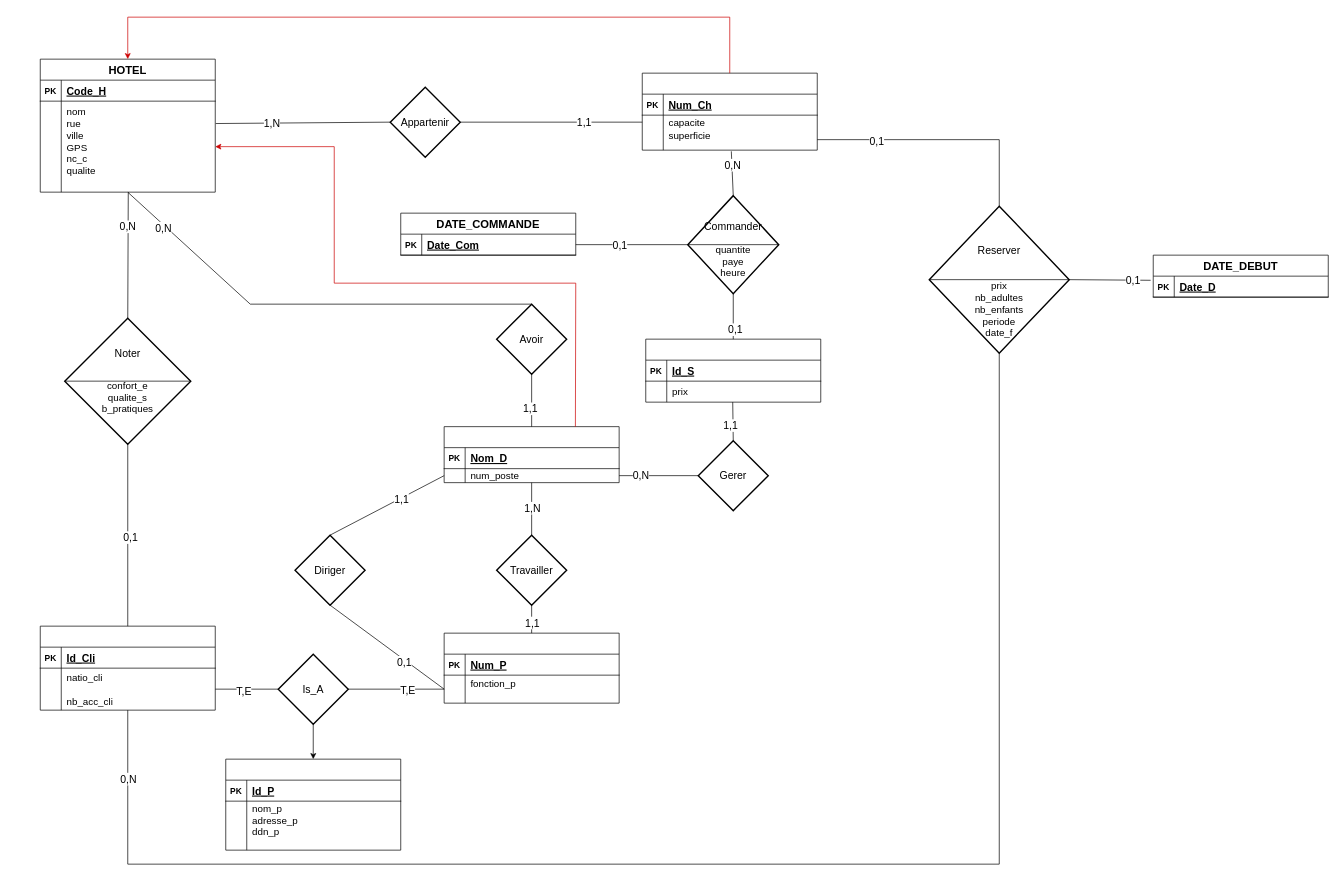
The diagram is 1341 pixels wide and 877 high, and some of its shapes have lost their labels. The box of each missing label's shape, as (x1, y1, x2, y2) in pixels:
CHAMBRE: (642, 72, 817, 150)
CLIENT: (40, 625, 215, 710)
DEPARTEMENT: (443, 426, 619, 483)
PERSONNE: (225, 758, 401, 850)
PERSONNEL: (443, 632, 619, 703)
SERVICE: (645, 338, 821, 402)
